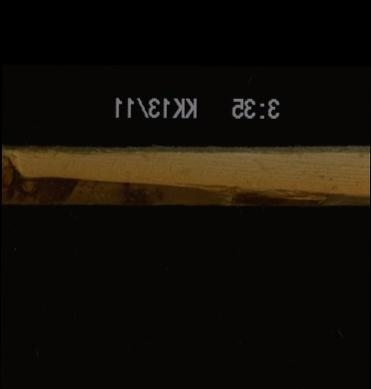wave: (0, 144, 369, 204)
